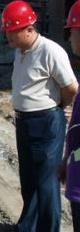hard-hat: (0, 0, 38, 31)
